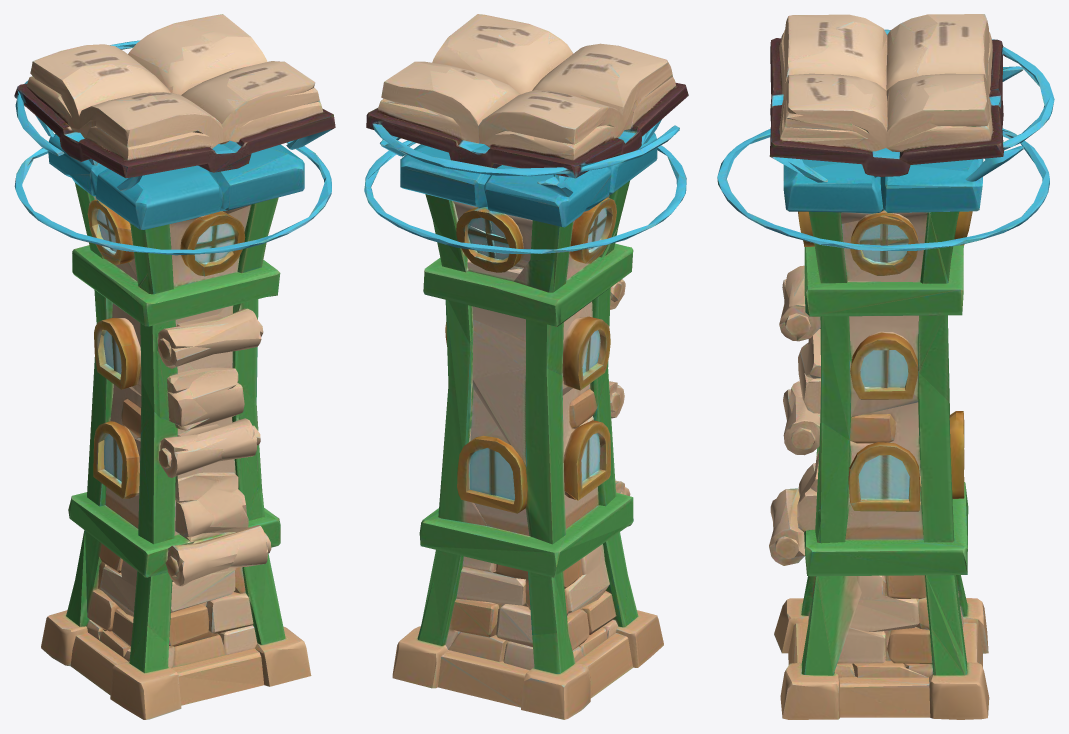
File: torre-letras.glb
3 views of the same model, side by side, from view 1: azimuth 30°, elevation 25°; view 2: azimuth 150°, elevation 25°; view 3: azimuth 270°, elevation 25° (orthographic). The views are drawn at different scales.
Bounding box in the file's own units: 0.924 × 1.9 × 0.9397.
Materials: 1 (1 with a texture image).
